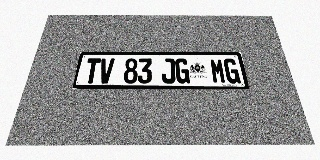3: (138, 58, 152, 83)
8: (123, 58, 138, 83)
G: (223, 58, 241, 83), (175, 58, 190, 83)
J: (161, 58, 175, 83)
M: (209, 58, 227, 83)
T: (83, 58, 101, 83)
V: (98, 58, 115, 83)
